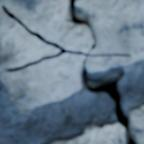broken_brick: (0, 9, 83, 114), (0, 0, 92, 52), (78, 0, 143, 72), (51, 123, 122, 143), (132, 106, 143, 143)
crack: (0, 0, 142, 143)
